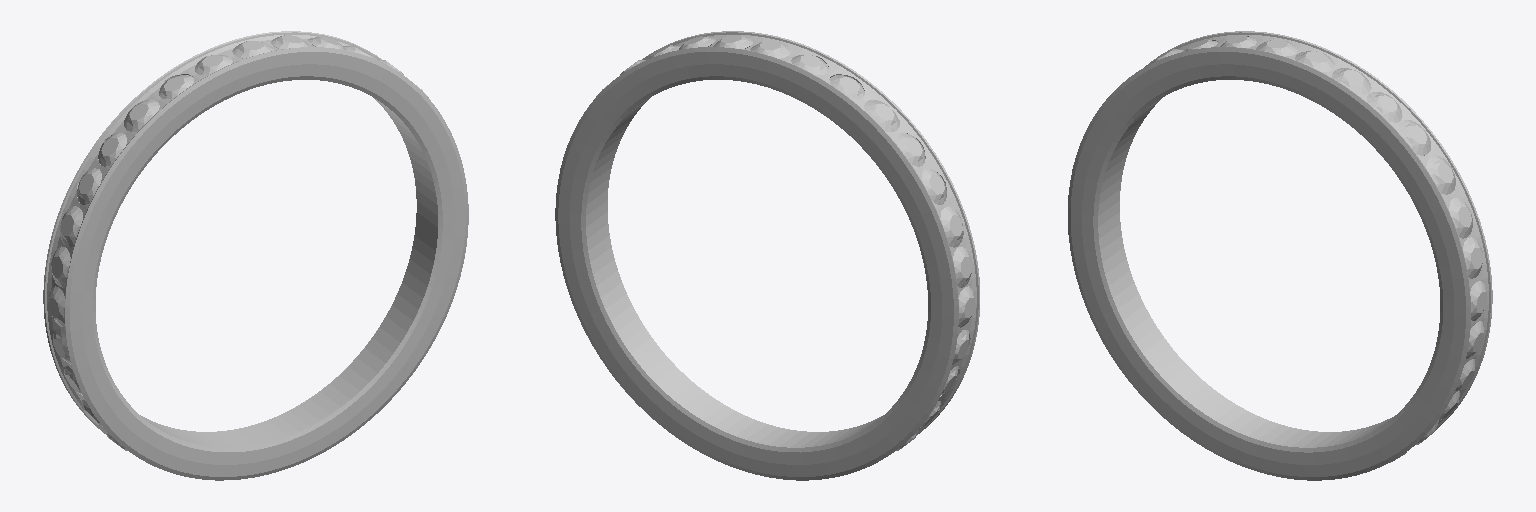
The model's file is 4 Gold Rings.obj.
The picture shows the model from 3 angles: view 1: azimuth 30°, elevation 25°; view 2: azimuth 150°, elevation 25°; view 3: azimuth 330°, elevation 25°; orthographic projection.
Visible parts, largest first — view 1: Tube04, Tube05; view 2: Tube04, Tube05; view 3: Tube04, Tube05.
Part boxes in pixels (bbox=[...]): Tube04: bbox=[43, 31, 468, 480]; Tube05: bbox=[48, 35, 403, 425]; Tube04: bbox=[555, 31, 979, 480]; Tube05: bbox=[620, 35, 974, 425]; Tube04: bbox=[1068, 31, 1492, 480]; Tube05: bbox=[1156, 36, 1487, 457].
Bounding box in the file's own units: 25.83 × 25.83 × 2.68.